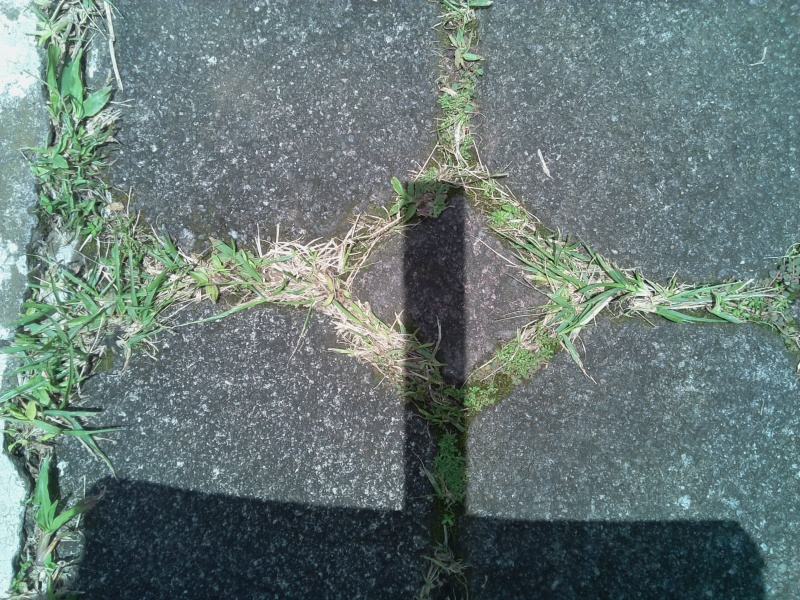Weed: (578, 246, 768, 329), (125, 237, 346, 306), (37, 53, 117, 234), (15, 297, 88, 442), (17, 469, 91, 595), (464, 327, 553, 409), (347, 321, 443, 393), (425, 428, 472, 520), (430, 4, 486, 68), (438, 91, 482, 171), (379, 170, 438, 227), (426, 545, 465, 597), (486, 201, 533, 239)
